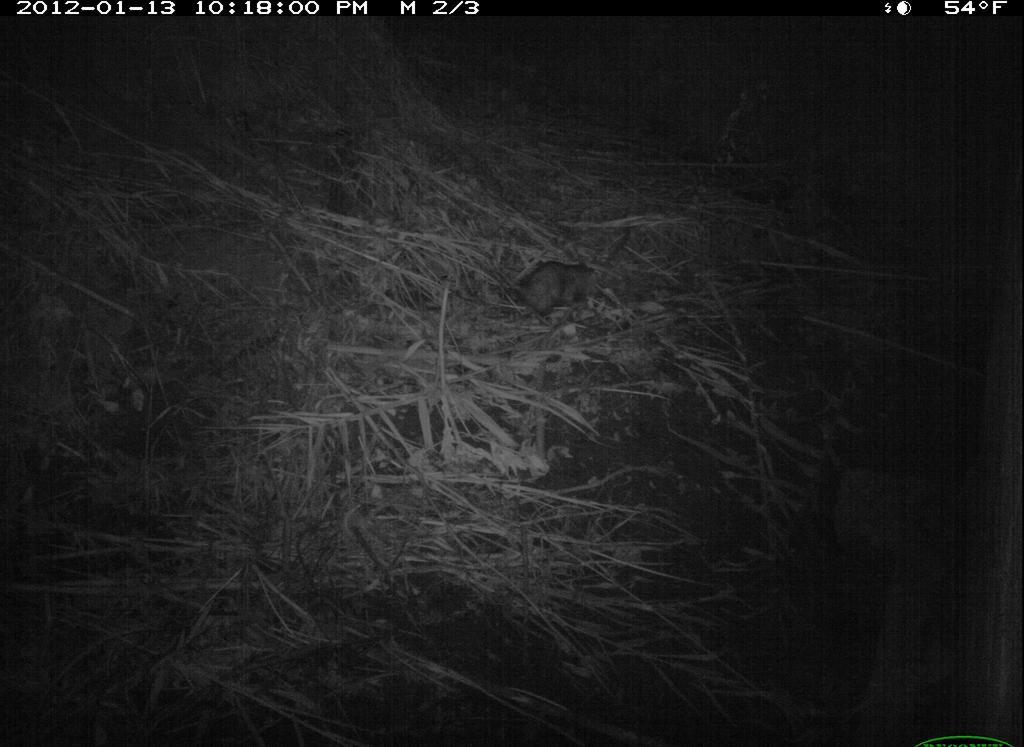opossum: (510, 248, 615, 324)
